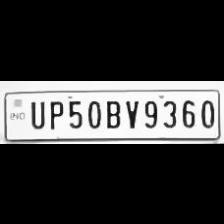0: (84, 96, 102, 128), (198, 95, 216, 127)
3: (159, 96, 177, 128)
5: (64, 96, 84, 128)
6: (178, 94, 196, 128)
9: (140, 96, 158, 128)
B: (102, 96, 122, 128)
P: (46, 96, 64, 130)
U: (26, 96, 44, 128)
V: (122, 95, 140, 129)
